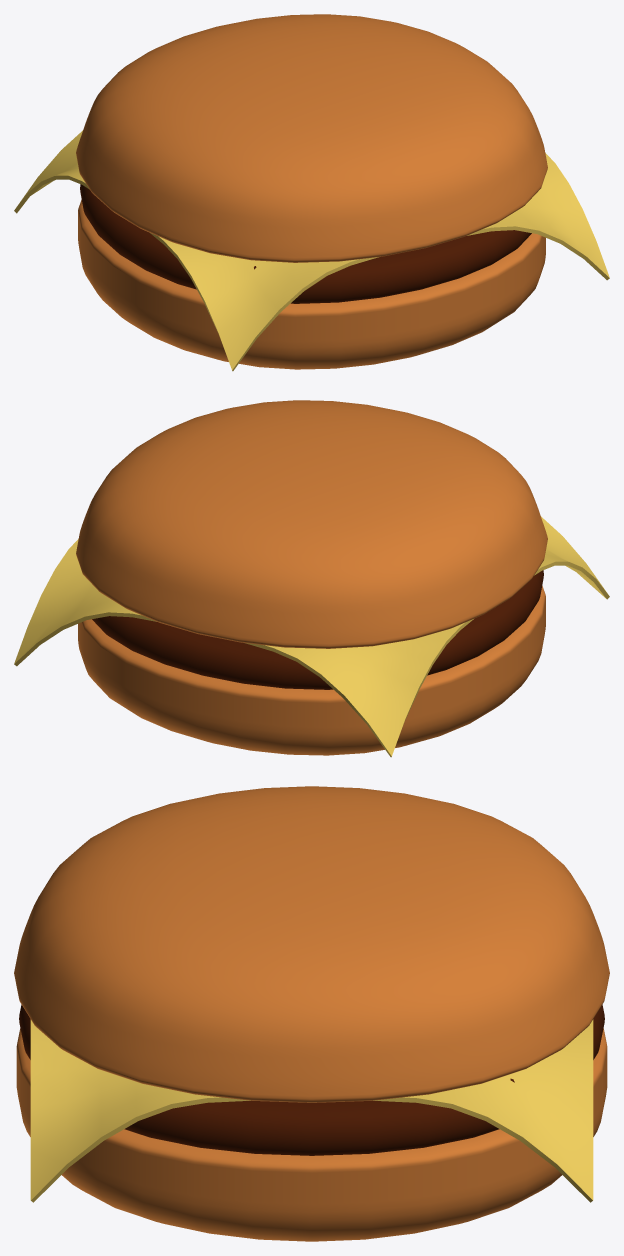
Rendered from burger.glb.
The picture shows the model from 3 angles, top to bottom: view 1: azimuth 30°, elevation 25°; view 2: azimuth 150°, elevation 25°; view 3: azimuth 270°, elevation 25°; orthographic projection. The views are drawn at different scales.
Parts seen in each view (by area): view 1: Cube.004, Cube.001, Plane, Cube.002; view 2: Cube.004, Cube.001, Plane, Cube.002; view 3: Cube.004, Cube.001, Plane, Cube.002.
Boxes of the visible parts, x1,y1,x2,y2 form: Cube.004: (76,14,547,262); Cube.001: (78,200,545,369); Plane: (14,130,609,371); Cube.002: (80,184,531,303); Cube.004: (76,400,547,648); Cube.001: (78,586,545,755); Plane: (14,516,609,757); Cube.002: (92,570,543,689); Cube.004: (14,786,609,1102); Cube.001: (16,1028,607,1241); Plane: (30,1019,593,1202); Cube.002: (19,1004,604,1155).
Size of the model in its own units: 9.13 by 5.16 by 9.13.
